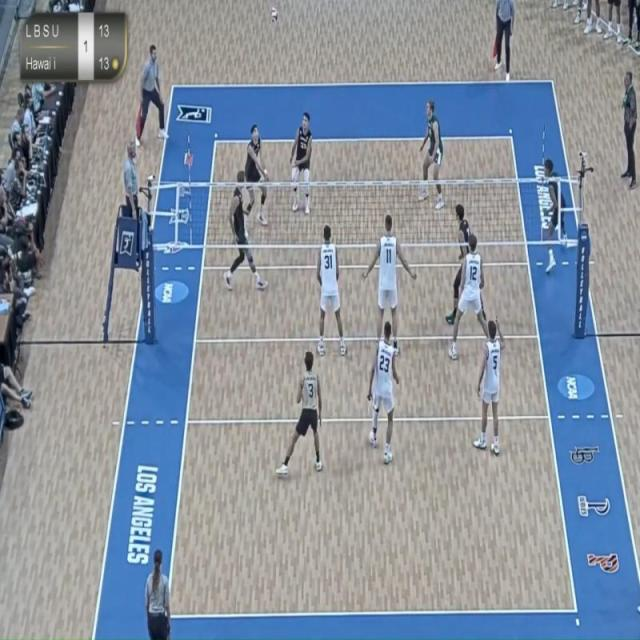volleyball: (266, 1, 282, 28)
